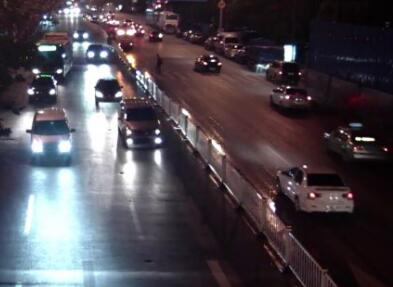bus: (29, 29, 76, 79), (157, 7, 180, 35)
car: (270, 161, 359, 220), (23, 102, 78, 165), (117, 94, 165, 151), (321, 121, 387, 162), (267, 80, 314, 112), (90, 75, 126, 108), (262, 58, 302, 85), (24, 71, 58, 101), (193, 50, 225, 75), (84, 43, 113, 65), (224, 40, 251, 57), (215, 29, 236, 50), (70, 27, 93, 45), (146, 27, 168, 43)
